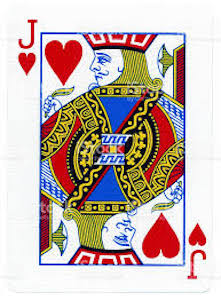JackOfHearts: (2, 1, 215, 296)
